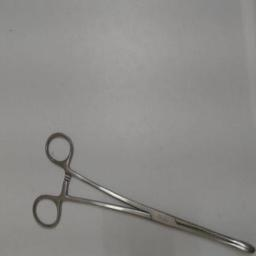Sponge Forceps: (28, 124, 256, 256)
